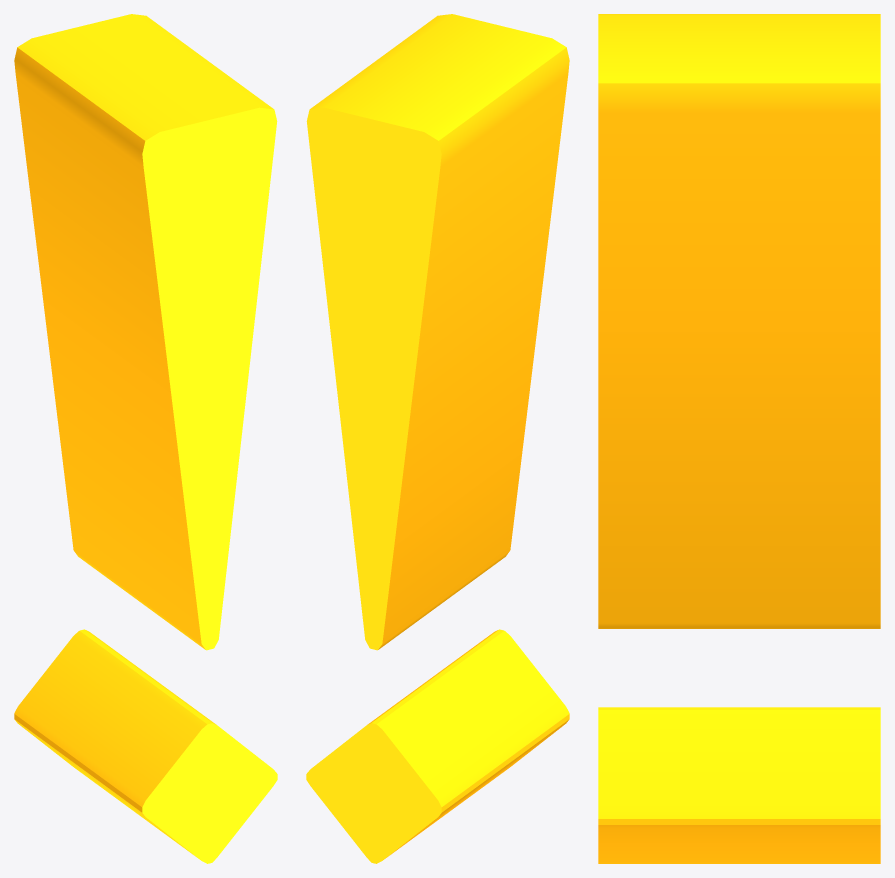
Rendered from 2df1a4c7-8237-497d-9979-f7fbe92ccdee.glb.
3 views of the same model, side by side, from view 1: azimuth 30°, elevation 25°; view 2: azimuth 150°, elevation 25°; view 3: azimuth 270°, elevation 25° (orthographic). The views are drawn at different scales.
Parts seen in each view (by area): view 1: !_Soul_Yellow; view 2: !_Soul_Yellow; view 3: !_Soul_Yellow.
Part boxes in pixels (x1=…): !_Soul_Yellow: x1=14, y1=14, x2=277, y2=863; !_Soul_Yellow: x1=306, y1=14, x2=569, y2=863; !_Soul_Yellow: x1=598, y1=14, x2=880, y2=863.
Size of what is drawn, in the model's own units: 0.0275 by 0.1442 by 0.045.
Materials: 2 (2 with a texture image).
